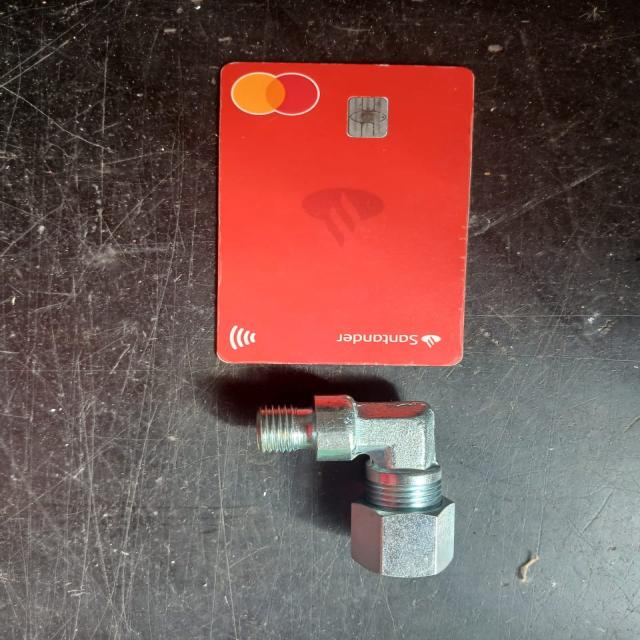cartao: (217, 62, 476, 366)
rosca_externa: (258, 395, 452, 577)
